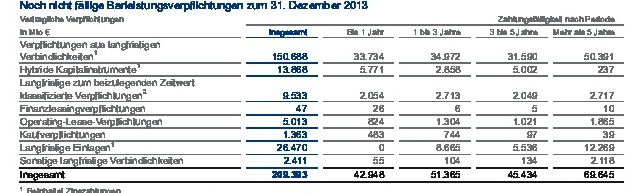table: (0, 0, 639, 193)
